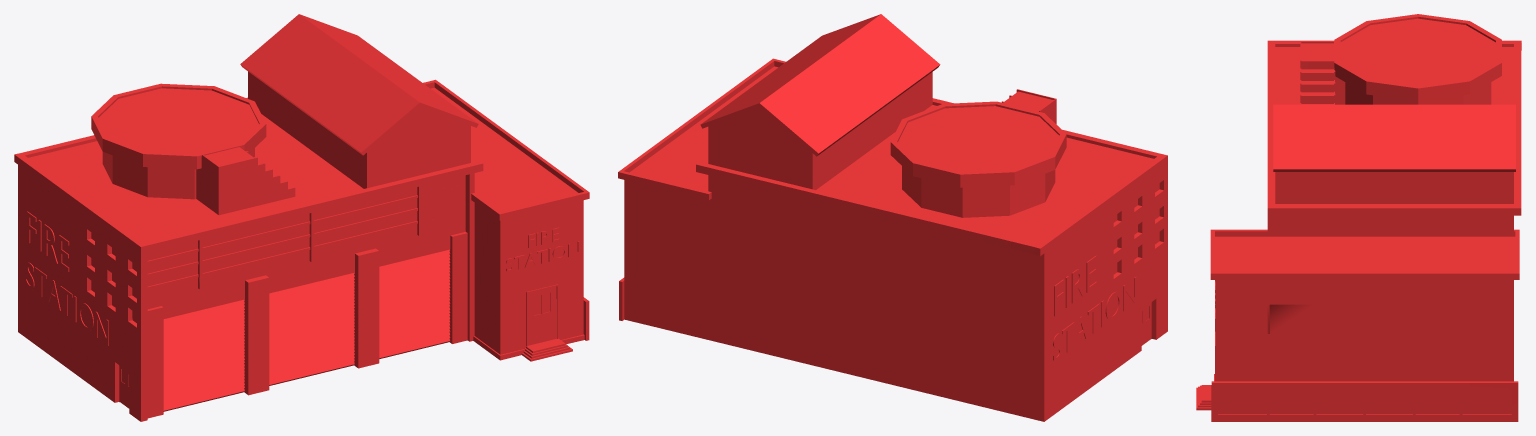
The model's file is Fire Station_1.fbx.
The picture shows the model from 3 angles, left to right: view 1: azimuth 30°, elevation 25°; view 2: azimuth 150°, elevation 25°; view 3: azimuth 270°, elevation 25°; orthographic projection.
Parts seen in each view (by area): view 1: Plane; view 2: Plane; view 3: Plane.
Boxes of the visible parts, box(x1,y1,x2,y2) form: Plane: box(14, 14, 589, 421); Plane: box(618, 14, 1167, 421); Plane: box(1196, 14, 1521, 421).
Size of the model in its own units: 1173 by 662 by 783.
